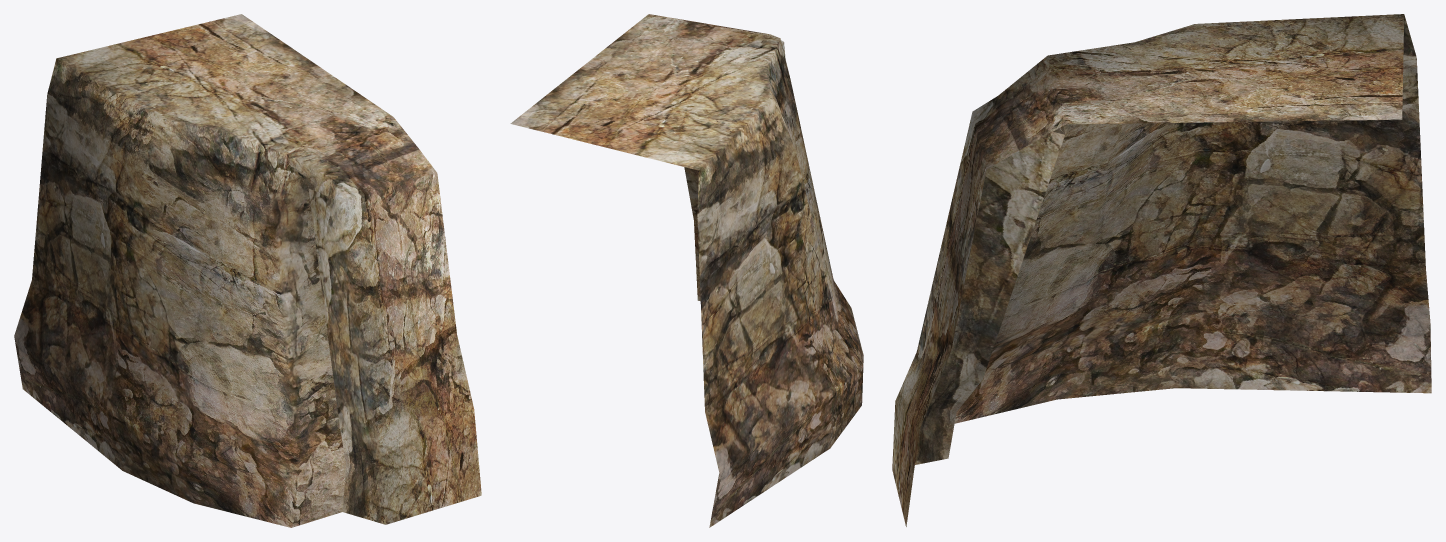
File: ex_DungeonSet_Cliff_01A.fbx
3 views of the same model, side by side, from view 1: azimuth 30°, elevation 25°; view 2: azimuth 150°, elevation 25°; view 3: azimuth 270°, elevation 25° (orthographic). The views are drawn at different scales.
Parts seen in each view (by area): view 1: ex_DungeonSet_Cliff_01A; view 2: ex_DungeonSet_Cliff_01A; view 3: ex_DungeonSet_Cliff_01A.
Part boxes in pixels (<box>): ex_DungeonSet_Cliff_01A: <box>14,14,481,527</box>; ex_DungeonSet_Cliff_01A: <box>510,14,863,527</box>; ex_DungeonSet_Cliff_01A: <box>892,14,1431,526</box>.
Size of the model in its own units: 251 by 322 by 402.
